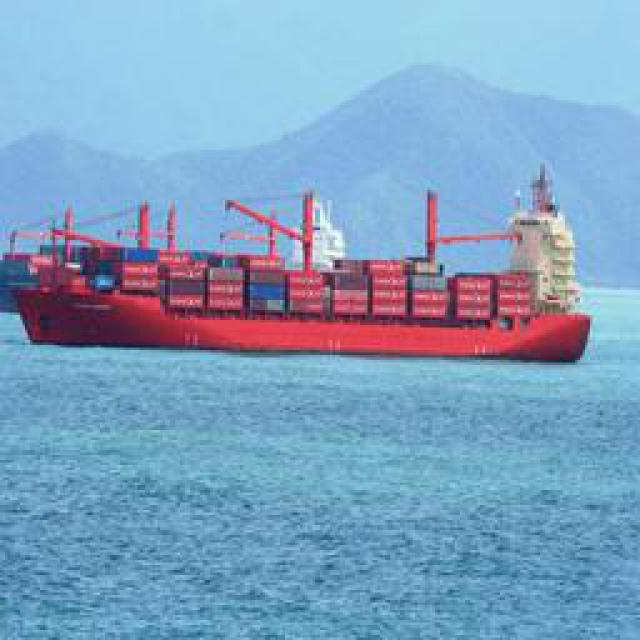Ship: (22, 184, 595, 367)
